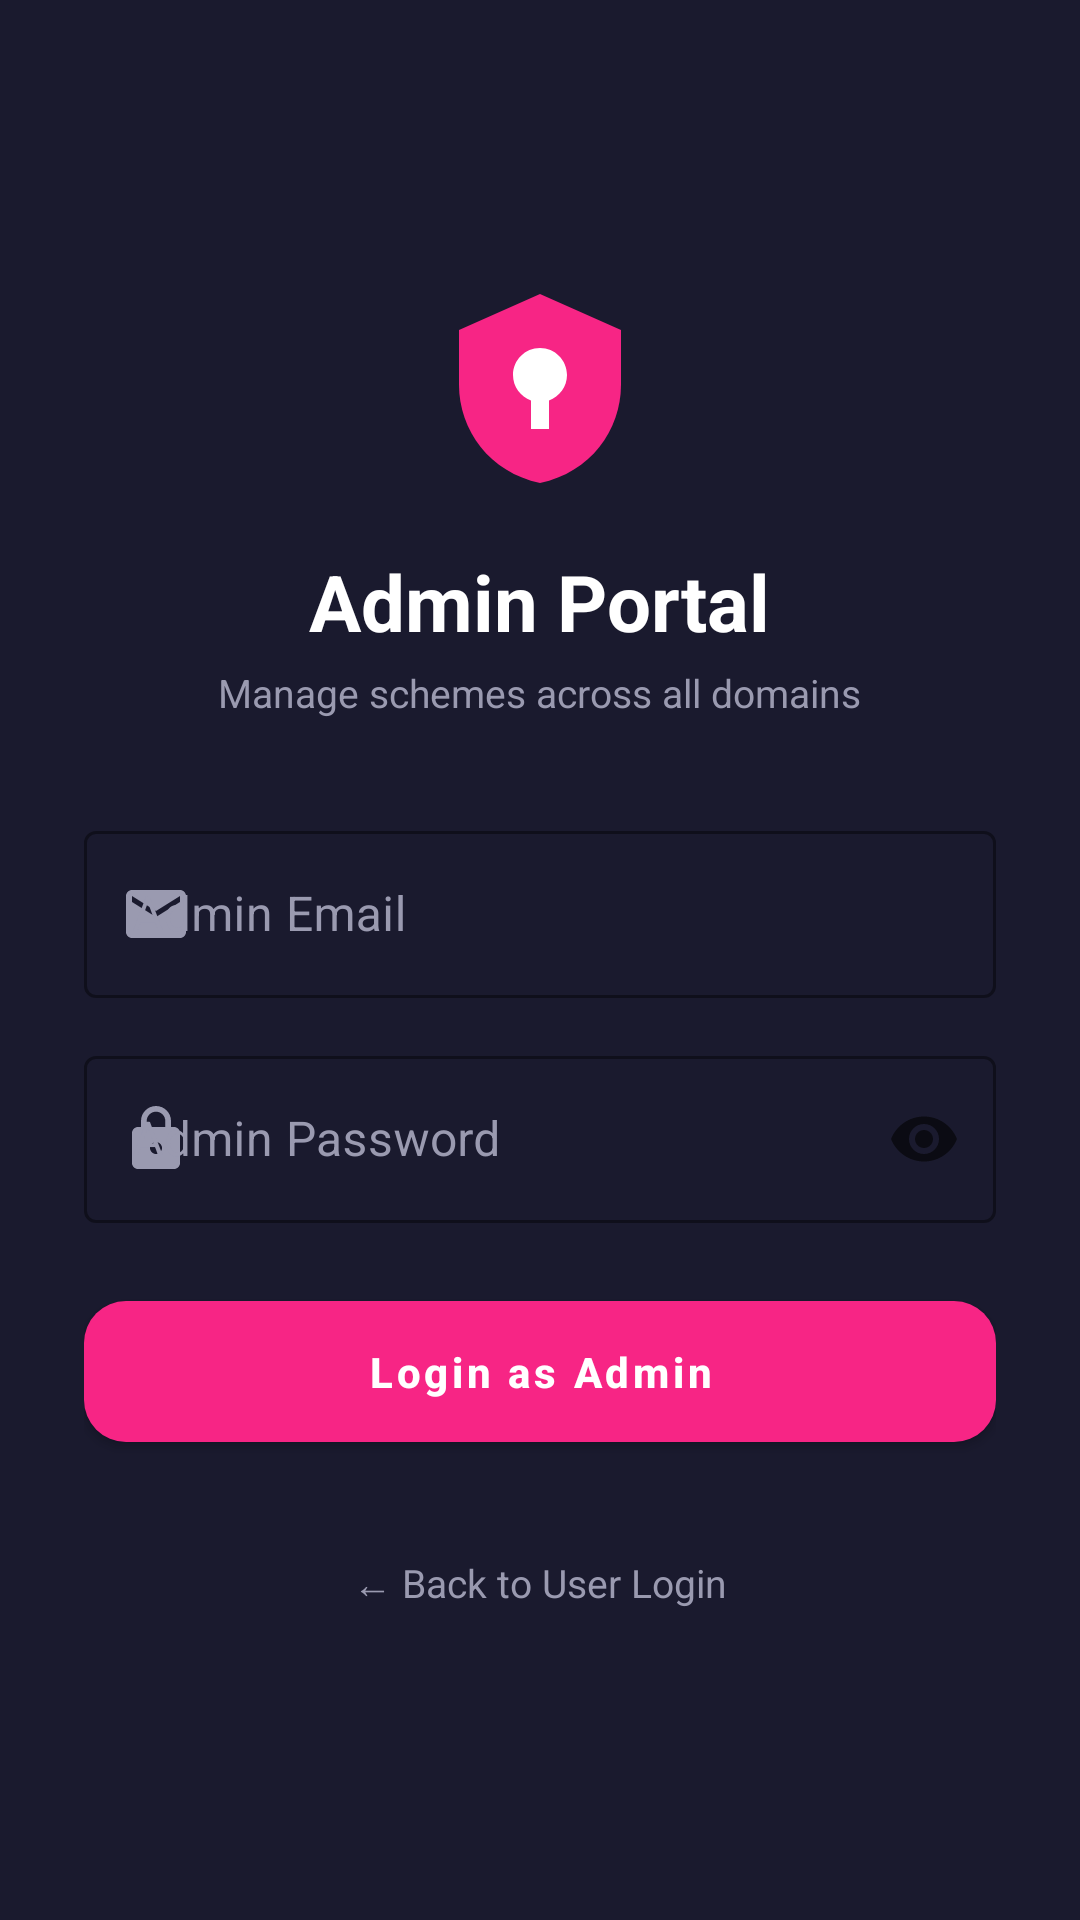

Screen size 1080 × 1920. Icon name, then its box in pixels as box(x1, y1, x2, y2):
admin shield: box(459, 294, 621, 483)
